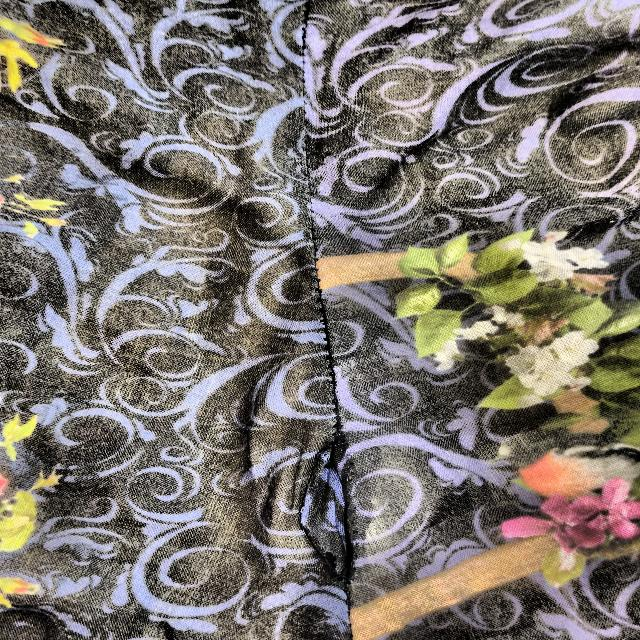seam: (264, 389, 410, 614)
